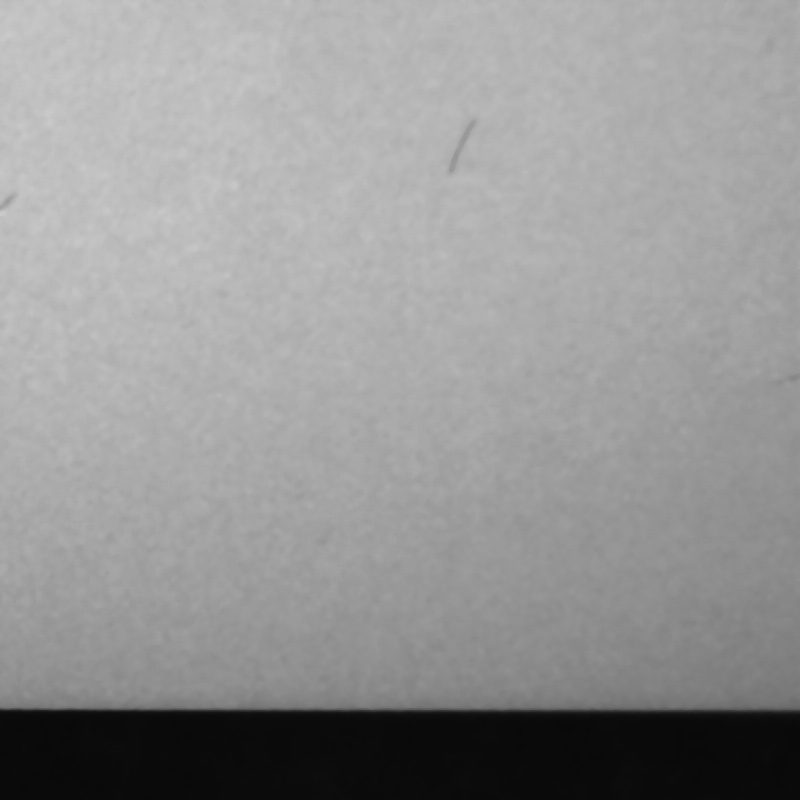defect: (444, 113, 479, 176), (1, 186, 21, 217)
